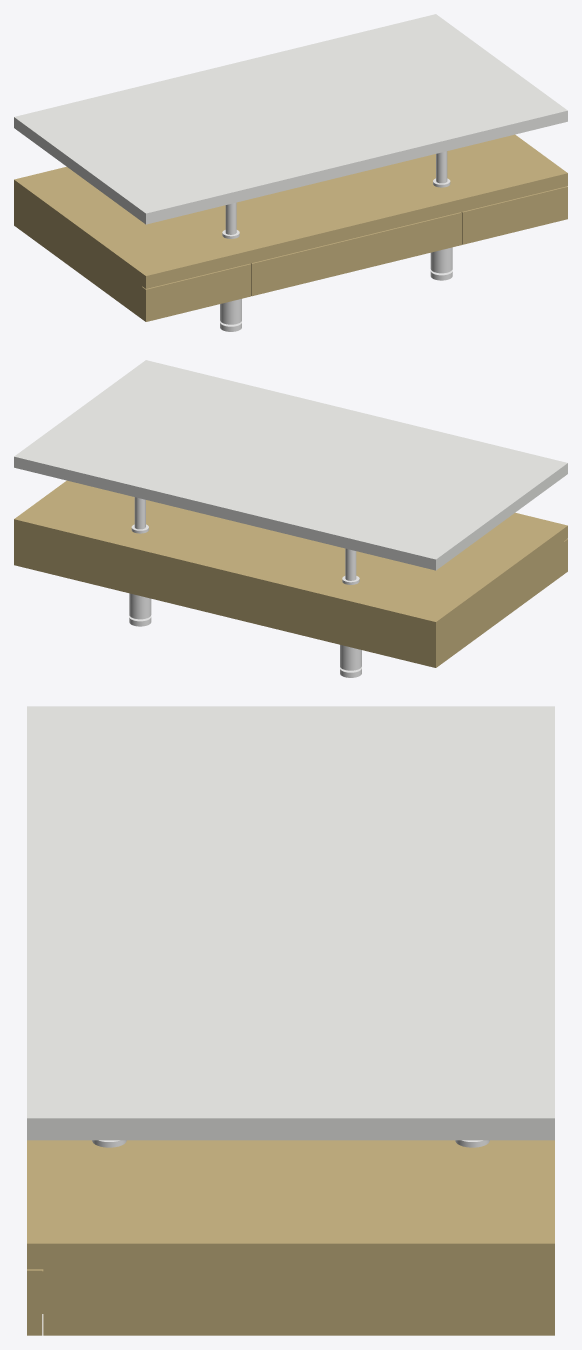
The model's file is 396_センターテーブル.glb.
3 views of the same model, one above another, from view 1: azimuth 30°, elevation 25°; view 2: azimuth 150°, elevation 25°; view 3: azimuth 270°, elevation 25° (orthographic). The views are drawn at different scales.
Visible parts, largest first — view 1: 396_センターテーブル, 引き出し中, 引き出し左, 引き出し右; view 2: 396_センターテーブル; view 3: 396_センターテーブル, 引き出し右.
Boxes of the visible parts, box(x1,y1,x2,y2) form: 396_センターテーブル: box(14, 14, 567, 331); 引き出し中: box(251, 212, 461, 296); 引き出し左: box(142, 263, 251, 321); 引き出し右: box(461, 186, 567, 244); 396_センターテーブル: box(14, 360, 567, 677); 396_センターテーブル: box(27, 706, 554, 1335); 引き出し右: box(27, 1269, 43, 1335).
Size of the model in its own units: 1.2 by 0.42 by 0.65.
